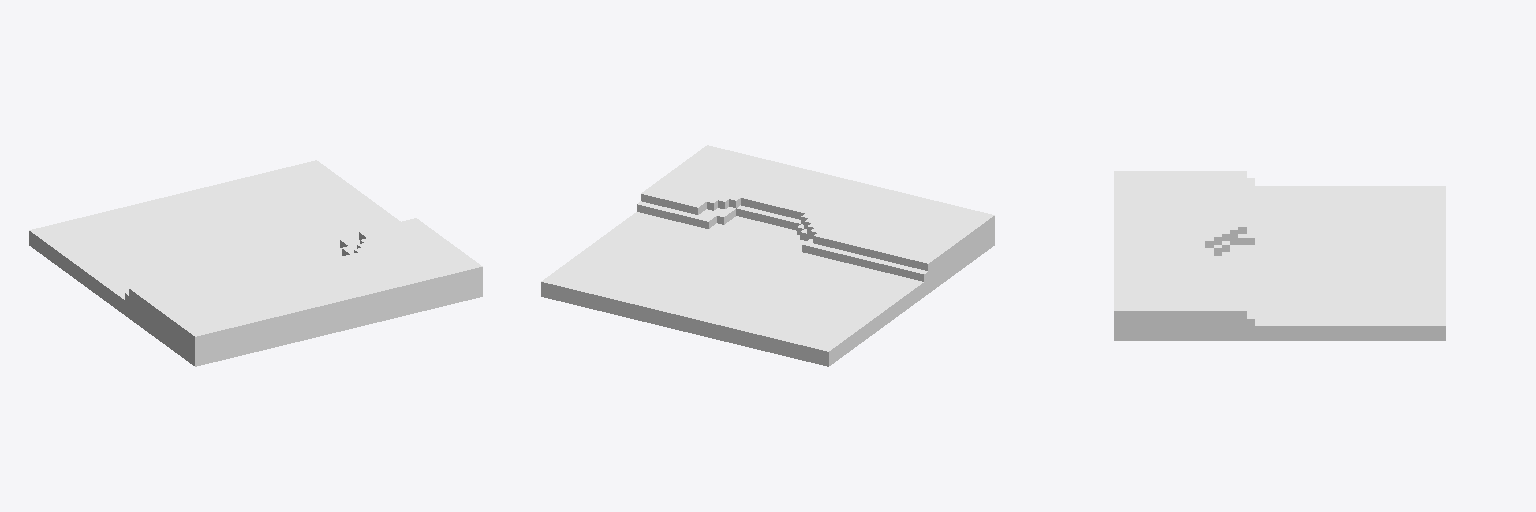
Rendered from teste-3.obj.
The picture shows the model from 3 angles: view 1: azimuth 30°, elevation 25°; view 2: azimuth 150°, elevation 25°; view 3: azimuth 270°, elevation 25°; orthographic projection.
Parts seen in each view (by area): view 1: object 1; view 2: object 1; view 3: object 1.
Boxes of the visible parts, box(x1,y1,x2,y2) form: object 1: box(29, 160, 482, 366); object 1: box(541, 145, 994, 366); object 1: box(1114, 171, 1445, 340).
Bounding box in the file's own units: 4 × 0.4 × 4.